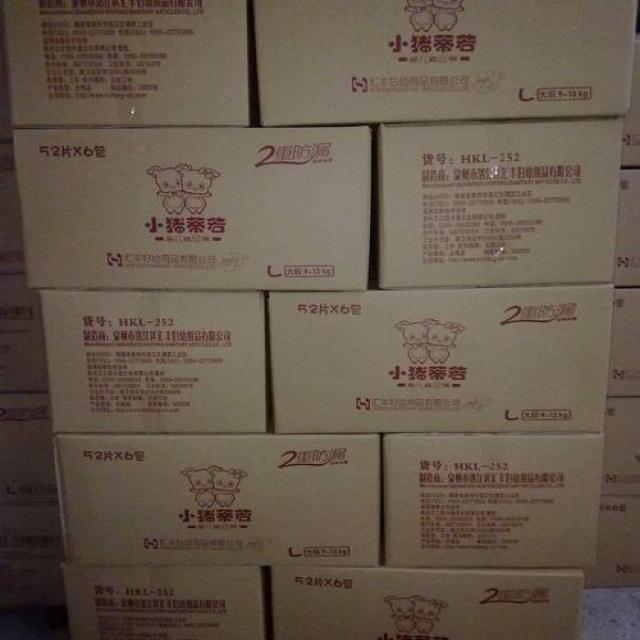Carton: (15, 127, 611, 436), (55, 435, 595, 567), (256, 4, 637, 117), (379, 116, 620, 286), (4, 0, 253, 126), (275, 569, 570, 639), (65, 563, 260, 634)
